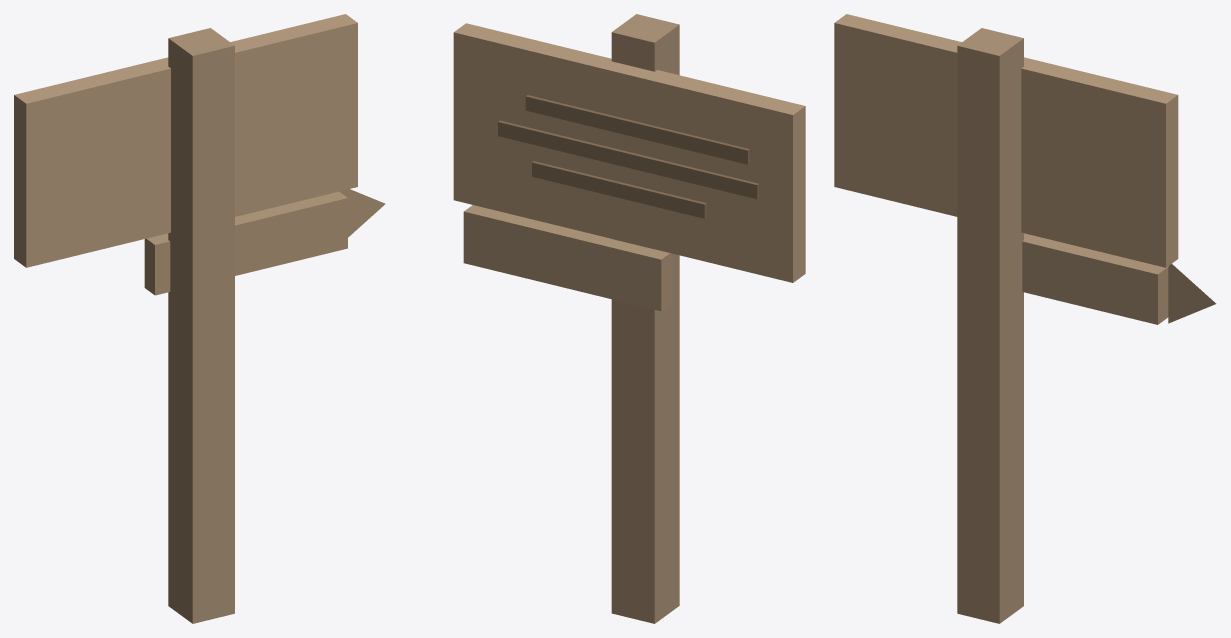
The model's file is sign.glb.
The picture shows the model from 3 angles, left to right: view 1: azimuth 30°, elevation 25°; view 2: azimuth 150°, elevation 25°; view 3: azimuth 330°, elevation 25°; orthographic projection. The views are drawn at different scales.
Visible parts, largest first — view 1: sign; view 2: sign; view 3: sign.
Boxes of the visible parts, bbox=[...] form: sign: bbox=[14, 14, 385, 623]; sign: bbox=[453, 14, 805, 623]; sign: bbox=[834, 14, 1216, 623].
Size of the model in its own units: 1.23 by 1.8 by 0.206.
